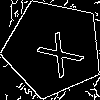X: (28, 23, 85, 79)
